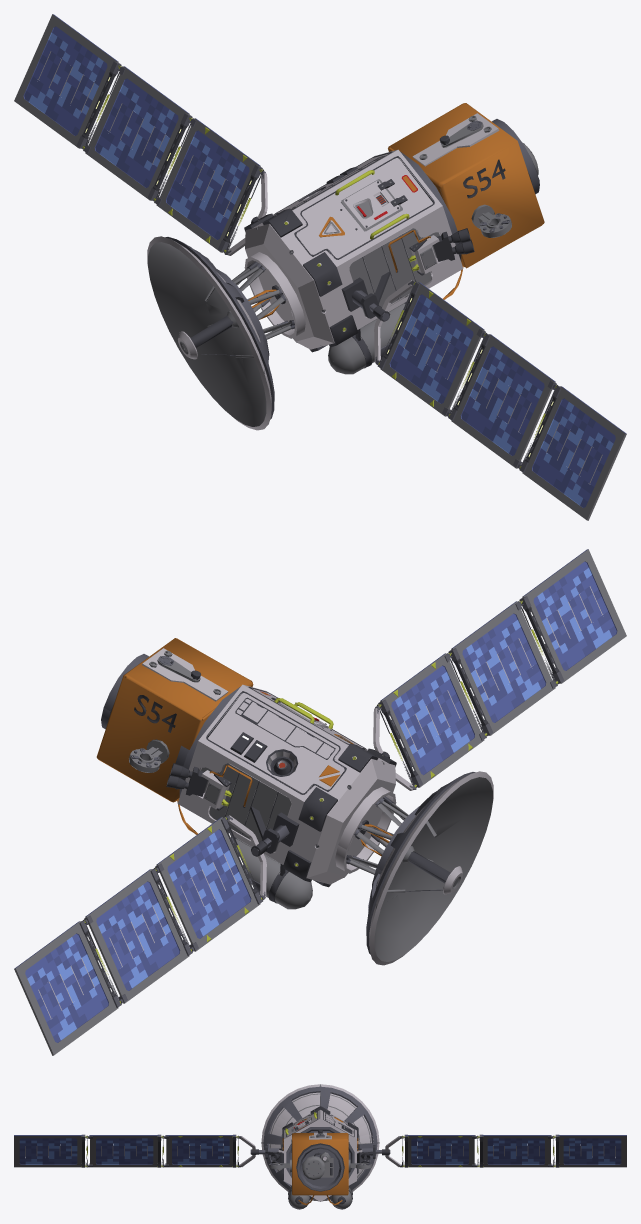
3 views of the same model, one above another, from view 1: azimuth 30°, elevation 25°; view 2: azimuth 150°, elevation 25°; view 3: azimuth 270°, elevation 25° (orthographic). The views are drawn at different scales.
Visible parts, largest first — view 1: Object_25; view 2: Object_25; view 3: Object_25.
Part boxes in pixels (left/top/right/bottom): Object_25: left=14, top=14, right=626, bottom=520; Object_25: left=14, top=549, right=626, bottom=1055; Object_25: left=14, top=1084, right=626, bottom=1209.
Size of the model in its own units: 581 by 385 by 1658.
